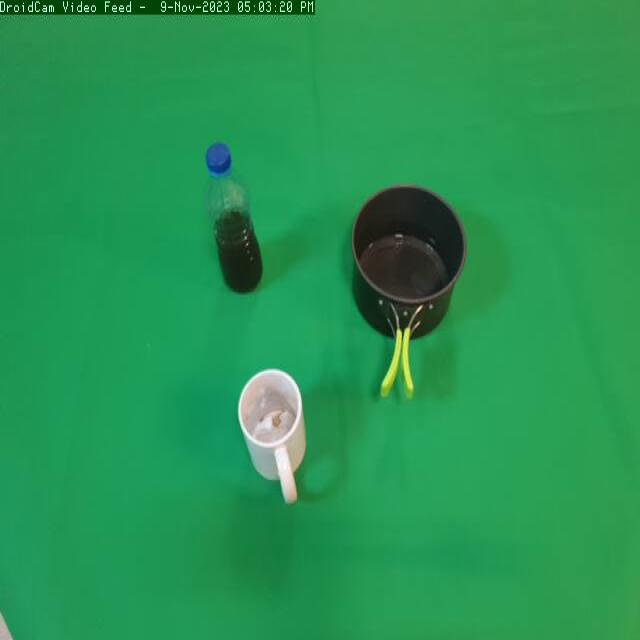cup: (235, 353, 314, 518)
fullbottle: (194, 130, 269, 319)
pot: (339, 171, 472, 450)
